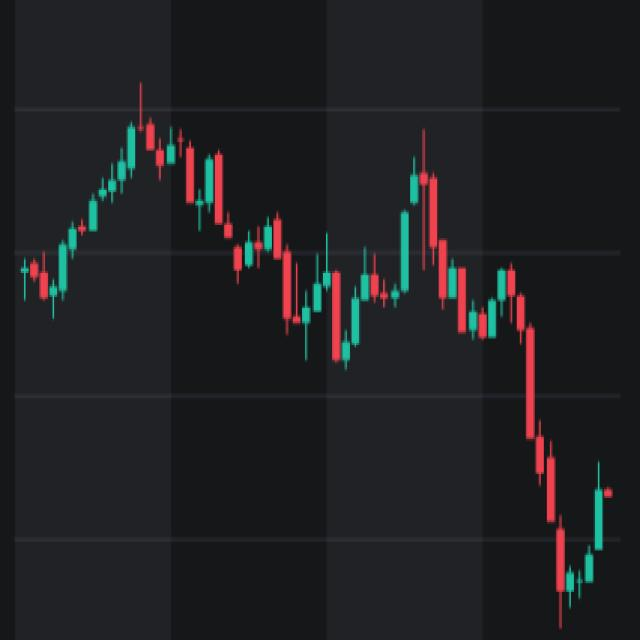Ascending-Triangle: (104, 73, 422, 411)
Support-breakout: (477, 258, 578, 622)
